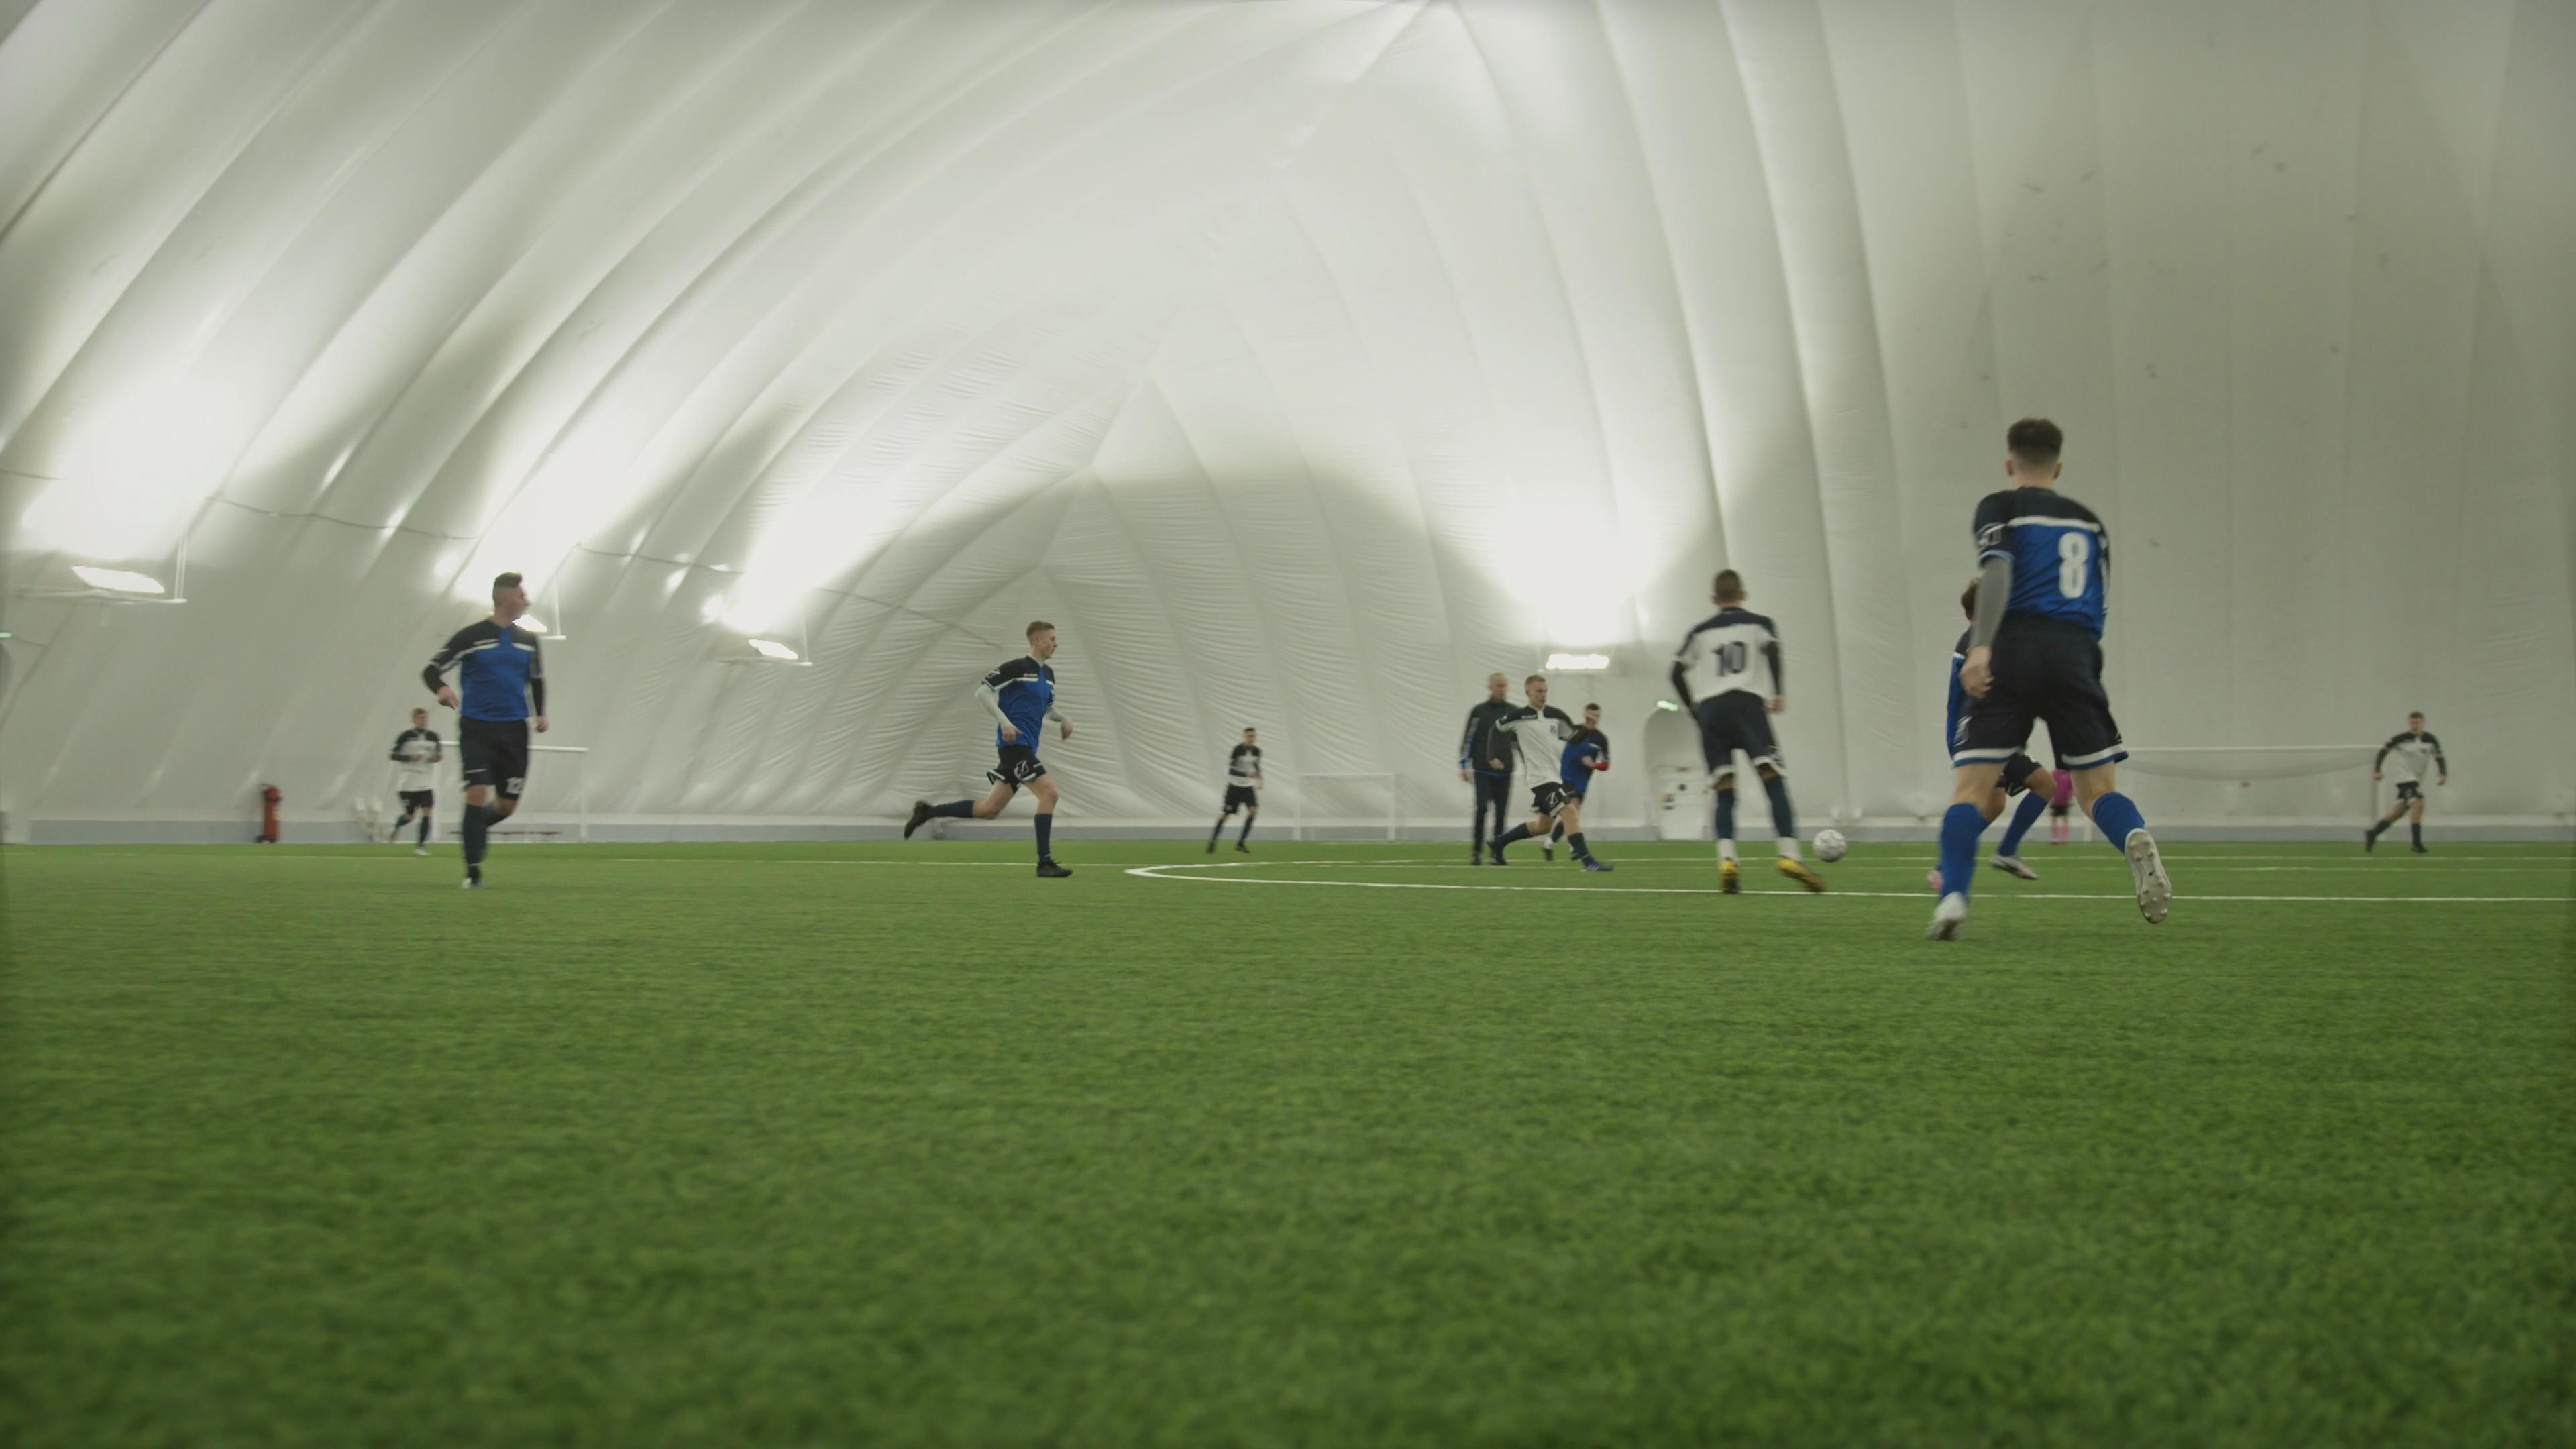other: (1460, 669, 1525, 867)
team1: (1928, 416, 2174, 941), (901, 616, 1074, 879), (423, 570, 550, 895), (1543, 704, 1603, 870)
team1gk: (2045, 752, 2077, 846)
team2: (1667, 568, 1833, 897), (1511, 672, 1573, 867), (2367, 706, 2449, 853), (386, 709, 455, 851), (1207, 725, 1265, 855)
